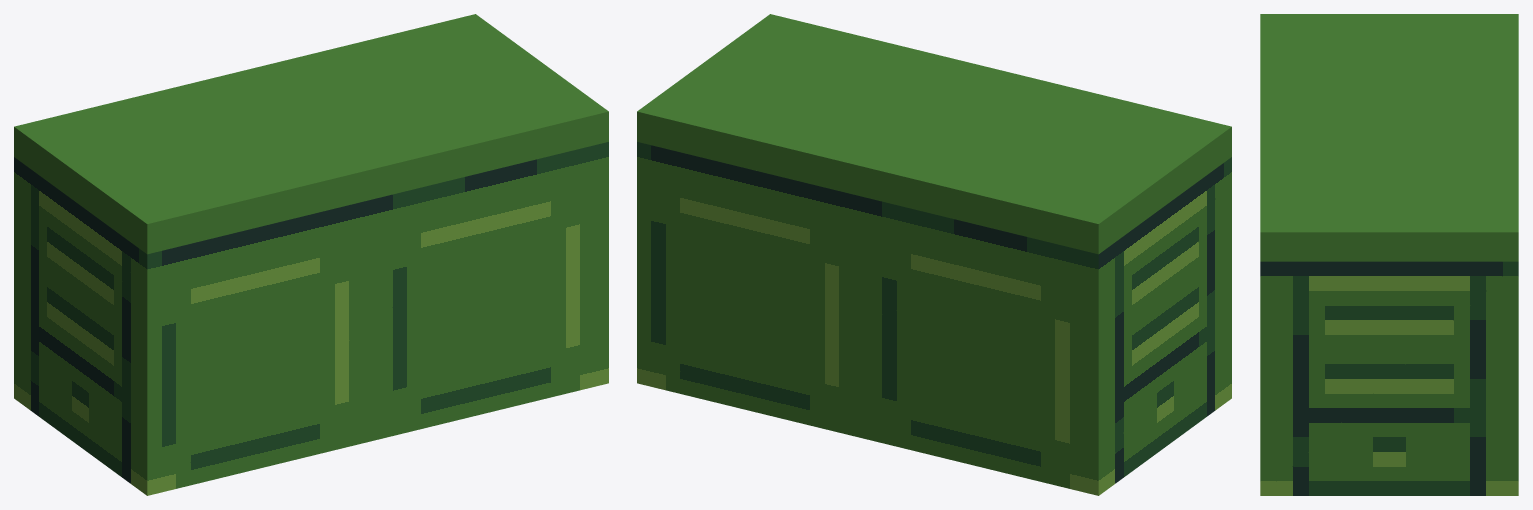
File: ammocrate.gltf
3 views of the same model, side by side, from view 1: azimuth 30°, elevation 25°; view 2: azimuth 150°, elevation 25°; view 3: azimuth 270°, elevation 25° (orthographic). The views are drawn at different scales.
Visible parts, largest first — view 1: cube (×2); view 2: cube (×2); view 3: cube (×2).
Part boxes in pixels (box(x1,y1,x2,y2)): cube (×2): box(14, 14, 608, 495); cube (×2): box(637, 14, 1231, 495); cube (×2): box(1260, 14, 1518, 495).
Bounding box in the file's own units: 2 × 1.12 × 1.
Materials: 3 (3 with a texture image).
